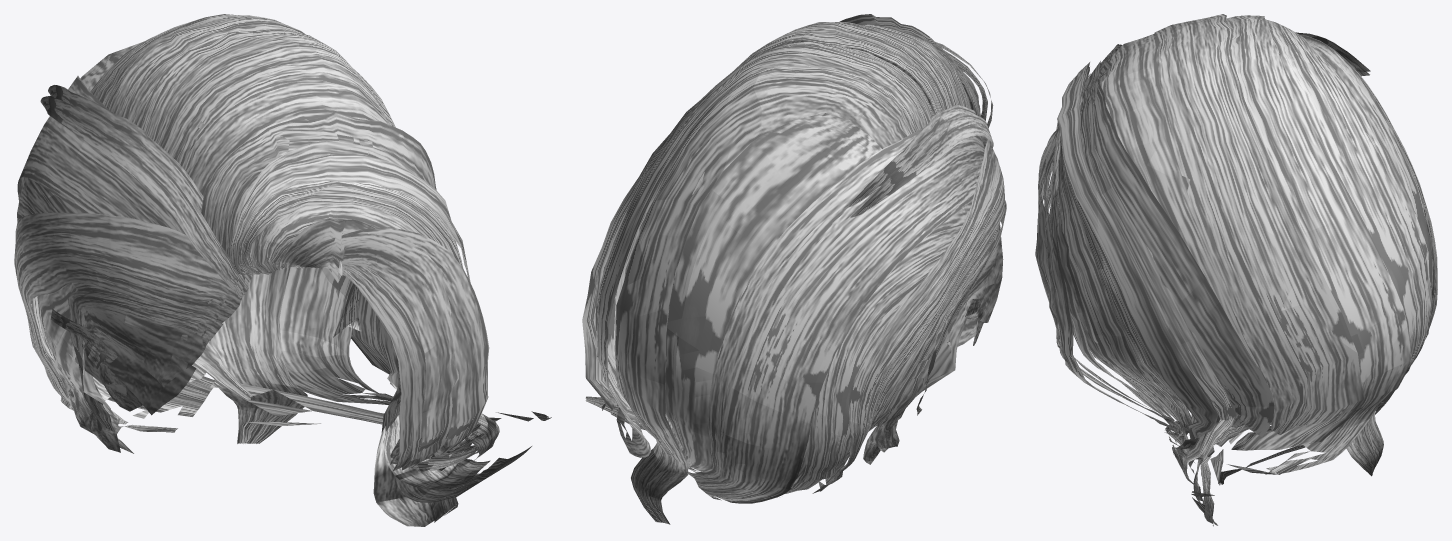
Rendered from daz_hair_adrienne_updo.glb.
The picture shows the model from 3 angles, left to right: view 1: azimuth 30°, elevation 25°; view 2: azimuth 150°, elevation 25°; view 3: azimuth 270°, elevation 25°; orthographic projection. The views are drawn at different scales.
Visible parts, largest first — view 1: daz_hair_adrienne_updo; view 2: daz_hair_adrienne_updo; view 3: daz_hair_adrienne_updo.
Part boxes in pixels (x1,y1,x2,y2): daz_hair_adrienne_updo: (14, 14, 551, 526); daz_hair_adrienne_updo: (582, 14, 1006, 524); daz_hair_adrienne_updo: (1035, 14, 1437, 526).
Size of the model in its own units: 0.2527 by 0.2711 by 0.2366.
Materials: 1 (1 with a texture image).
